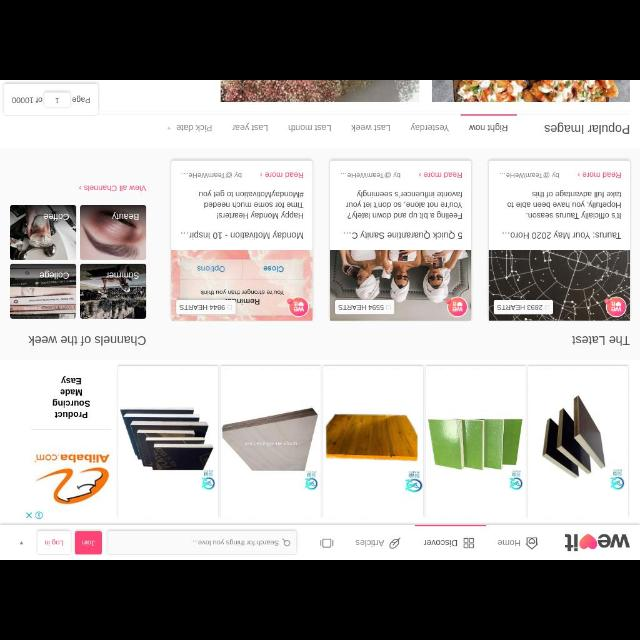icon: (524, 537, 538, 549), (320, 538, 334, 548), (389, 538, 401, 548), (464, 538, 474, 548), (282, 538, 290, 546), (166, 126, 172, 132), (544, 305, 550, 311), (227, 304, 233, 310), (576, 172, 582, 178), (386, 305, 392, 309), (418, 172, 422, 178), (259, 172, 263, 176), (80, 184, 82, 190), (21, 541, 24, 545)
iframe: (25, 364, 628, 520)
image: (170, 250, 312, 322), (329, 251, 471, 321), (490, 251, 630, 321), (432, 81, 630, 103), (221, 81, 419, 101), (10, 204, 76, 262), (79, 265, 145, 319), (10, 265, 76, 319), (81, 206, 147, 260), (561, 532, 631, 552)
input: (106, 530, 296, 554)
multitab: (161, 116, 633, 144)
panel: (169, 160, 313, 320), (329, 163, 471, 323), (488, 160, 630, 320)
spinner: (164, 122, 216, 134)
text: (342, 189, 464, 221), (197, 188, 306, 220), (507, 190, 623, 220), (26, 332, 148, 348), (544, 120, 630, 136), (178, 230, 306, 240), (498, 231, 622, 241), (342, 231, 463, 241), (193, 538, 281, 548), (570, 335, 630, 347), (180, 171, 242, 181), (498, 170, 560, 180), (341, 170, 401, 180), (84, 184, 146, 193), (176, 122, 216, 134), (230, 121, 272, 132), (289, 123, 333, 133), (423, 170, 465, 180), (411, 123, 452, 133), (468, 124, 508, 134), (352, 123, 392, 133), (496, 305, 544, 313), (338, 304, 384, 312), (423, 537, 459, 547), (112, 210, 140, 222), (582, 171, 622, 179), (266, 172, 304, 180), (179, 305, 225, 311), (43, 212, 69, 222), (10, 95, 42, 103), (355, 539, 385, 547), (40, 271, 70, 279), (104, 272, 140, 278), (73, 94, 91, 104), (498, 539, 520, 547), (42, 540, 66, 546), (52, 96, 62, 104), (82, 540, 95, 546)
textbutton: (36, 530, 70, 556), (74, 530, 102, 556)
toolbar: (1, 525, 639, 559)
